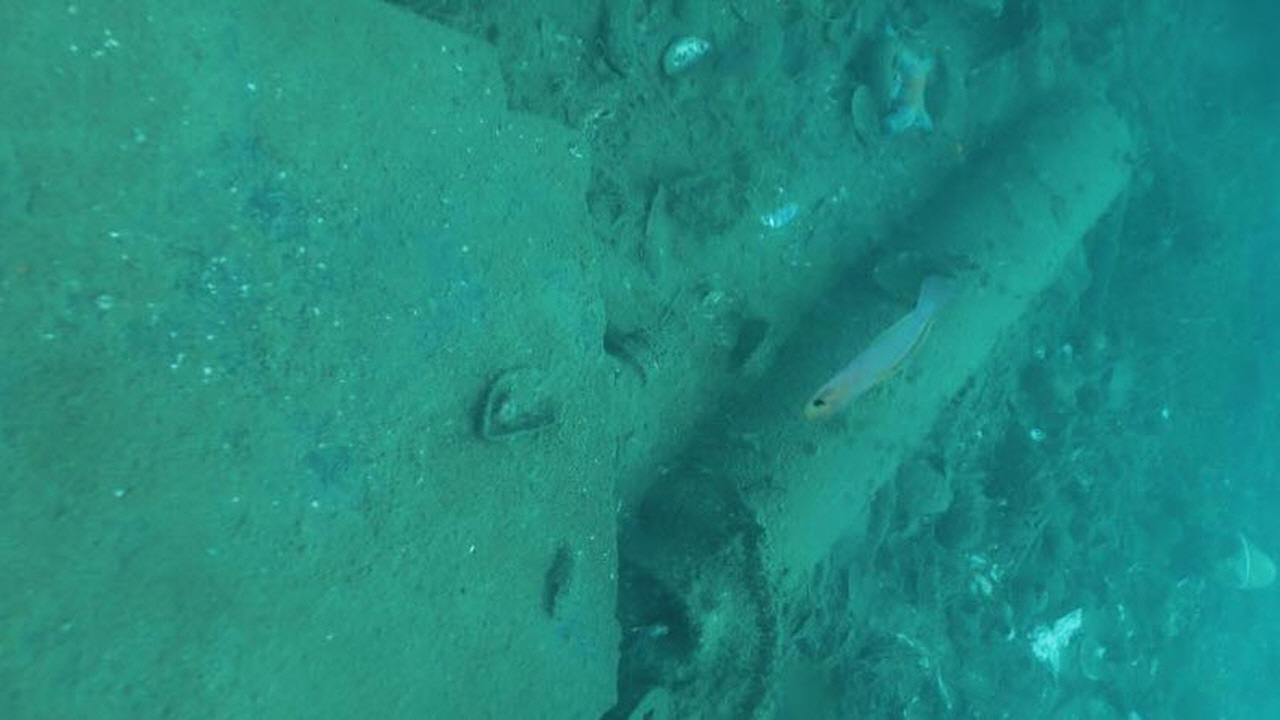eel fish trap: (616, 83, 1135, 679)
